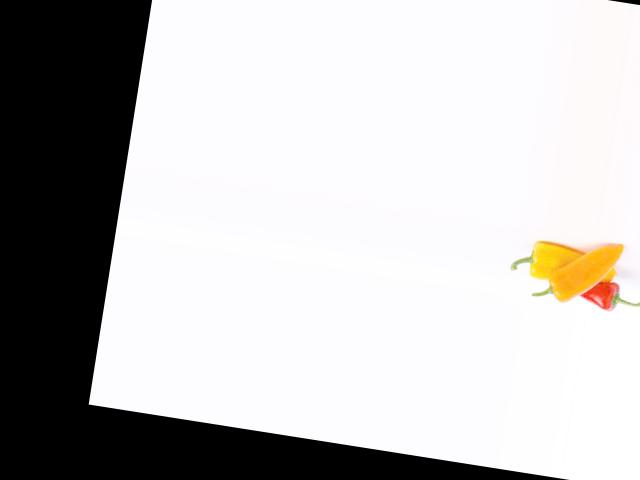bell_pepper: (505, 229, 594, 291)
